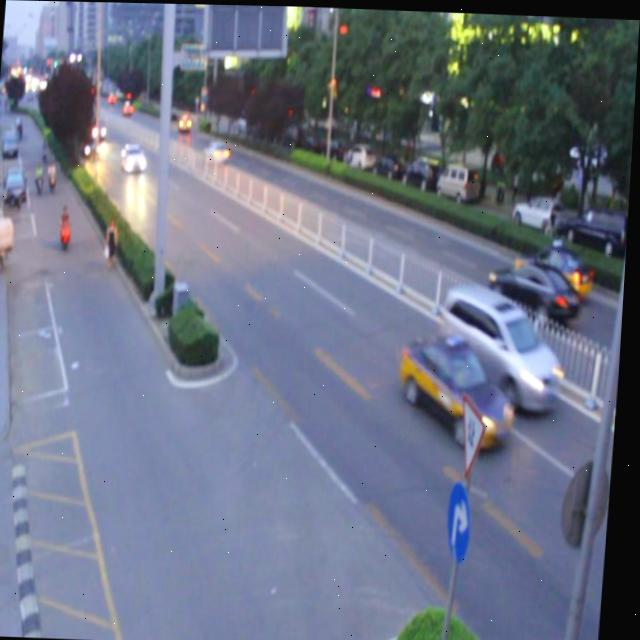car: (440, 278, 569, 408), (398, 328, 520, 448), (487, 254, 583, 321), (516, 236, 593, 294), (120, 142, 147, 171), (204, 138, 230, 162)
